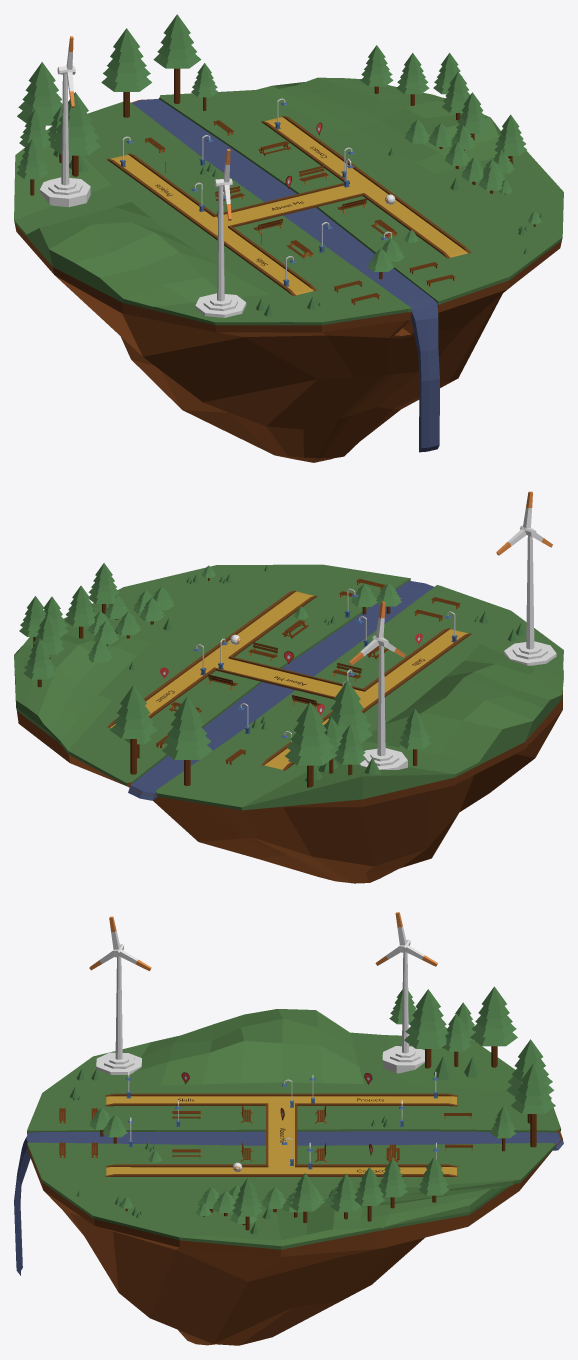
The model's file is hassenPortfolio.glb.
3 views of the same model, one above another, from view 1: azimuth 30°, elevation 25°; view 2: azimuth 150°, elevation 25°; view 3: azimuth 270°, elevation 25° (orthographic). The views are drawn at different scales.
Visible parts, largest first — view 1: land, water-body, tree.015, brick-tile, curb, tree.013, bench-01, wind-turbine-base, wind-turbine-base.001, lamp.001, tree.022, tree.003 (+5 smaller); view 2: land, tree.015, water-body, brick-tile, curb, tree.013, bench-01, wind-turbine-base.001, wind-turbine-base, tree.022, tree.007, tree.004 (+7 smaller); view 3: land, tree.015, water-body, brick-tile, curb, tree.013, bench-01, wind-turbine-base, wind-turbine-base.001, tree.022, lamp.001, tree.002 (+8 smaller).
Boxes of the visible parts, left/top/right/bottom form: land: left=14, top=77, right=563, bottom=462; water-body: left=132, top=98, right=439, bottom=452; tree.015: left=16, top=14, right=218, bottom=195; brick-tile: left=110, top=117, right=467, bottom=295; curb: left=107, top=116, right=471, bottom=296; tree.013: left=404, top=119, right=514, bottom=194; bench-01: left=145, top=120, right=454, bottom=305; wind-turbine-base: left=40, top=73, right=90, bottom=207; wind-turbine-base.001: left=195, top=186, right=246, bottom=317; lamp.001: left=120, top=98, right=391, bottom=286; tree.022: left=368, top=211, right=541, bottom=279; tree.003: left=396, top=53, right=429, bottom=105; land: left=14, top=564, right=563, bottom=883; tree.015: left=110, top=680, right=431, bottom=787; water-body: left=128, top=581, right=433, bottom=800; brick-tile: left=110, top=591, right=468, bottom=769; curb: left=107, top=590, right=471, bottom=770; tree.013: left=87, top=586, right=174, bottom=662; bench-01: left=156, top=578, right=460, bottom=764; wind-turbine-base.001: left=504, top=535, right=556, bottom=665; wind-turbine-base: left=359, top=644, right=407, bottom=769; tree.022: left=201, top=565, right=401, bottom=618; tree.007: left=65, top=585, right=96, bottom=638; tree.004: left=23, top=638, right=56, bottom=687; land: left=27, top=1009, right=562, bottom=1345; tree.015: left=389, top=986, right=555, bottom=1151; water-body: left=14, top=1131, right=563, bottom=1275; brick-tile: left=106, top=1096, right=456, bottom=1175; curb: left=105, top=1093, right=457, bottom=1176; tree.013: left=195, top=1185, right=338, bottom=1225; bench-01: left=59, top=1104, right=472, bottom=1162; wind-turbine-base: left=382, top=952, right=424, bottom=1073; wind-turbine-base.001: left=96, top=956, right=141, bottom=1074; tree.022: left=89, top=1108, right=161, bottom=1211; lamp.001: left=126, top=1071, right=438, bottom=1169; tree.002: left=354, top=1167, right=384, bottom=1221.
Size of the model in its own units: 146 by 112 by 155.
Materials: 19 (1 with a texture image).
